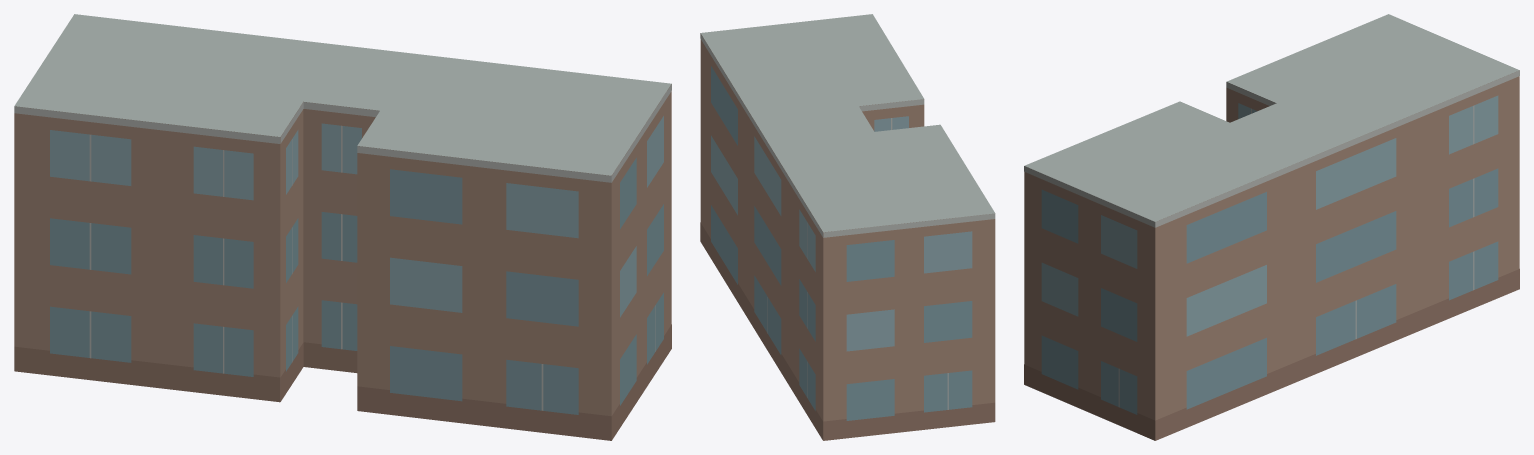
Rendered from survey-upis-32590206.glb.
3 views of the same model, side by side, from view 1: azimuth 30°, elevation 25°; view 2: azimuth 150°, elevation 25°; view 3: azimuth 270°, elevation 25° (orthographic). The views are drawn at different scales.
Visible parts, largest first — view 1: survey-upis-32590206.tmp; view 2: survey-upis-32590206.tmp; view 3: survey-upis-32590206.tmp.
Boxes of the visible parts, x1,y1,x2,y2 form: survey-upis-32590206.tmp: (14,14,671,440); survey-upis-32590206.tmp: (700,14,995,440); survey-upis-32590206.tmp: (1024,14,1519,440).
Size of the model in its own units: 18.65 by 9.15 by 18.78.
